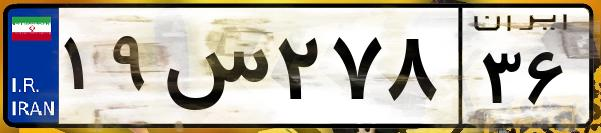1: (57, 26, 110, 100)
2: (270, 28, 330, 110)
3: (475, 38, 525, 113)
6: (525, 38, 570, 115)
7: (330, 28, 385, 110)
8: (385, 28, 445, 110)
9: (110, 28, 158, 98)
س: (158, 20, 270, 120)
